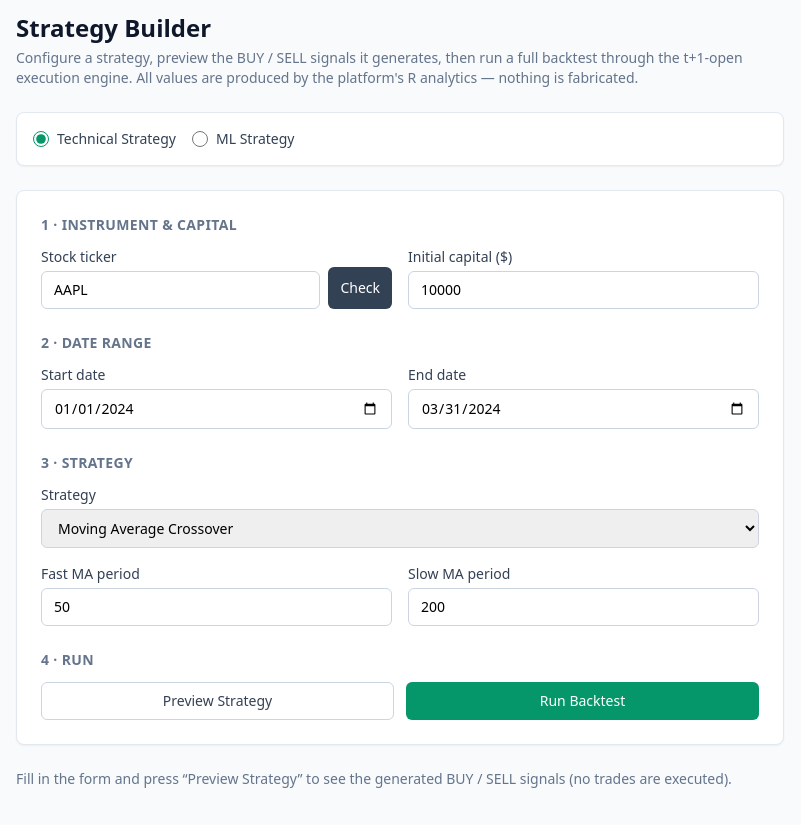
Scenario: StrategyBuilderPage (Phase 4) › rejects a non-positive initial capital
The width and height of the screenshot is (801, 825).
Replace the text in the number field labelled "Initial capital ($)" with "-500": {"x": 584, "y": 290} [408,271,759,309]
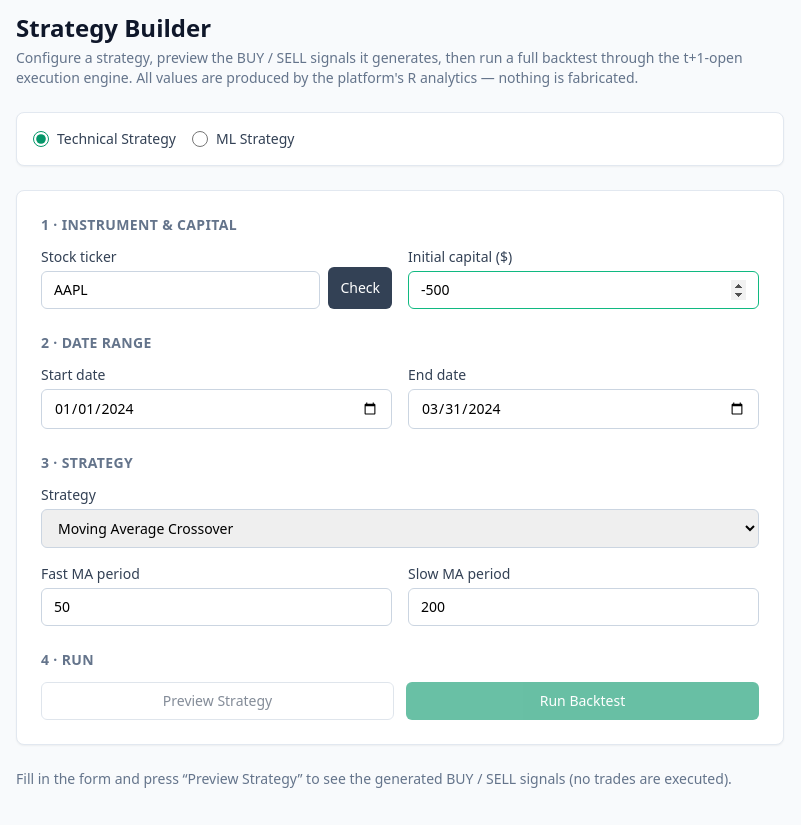
Press Tab
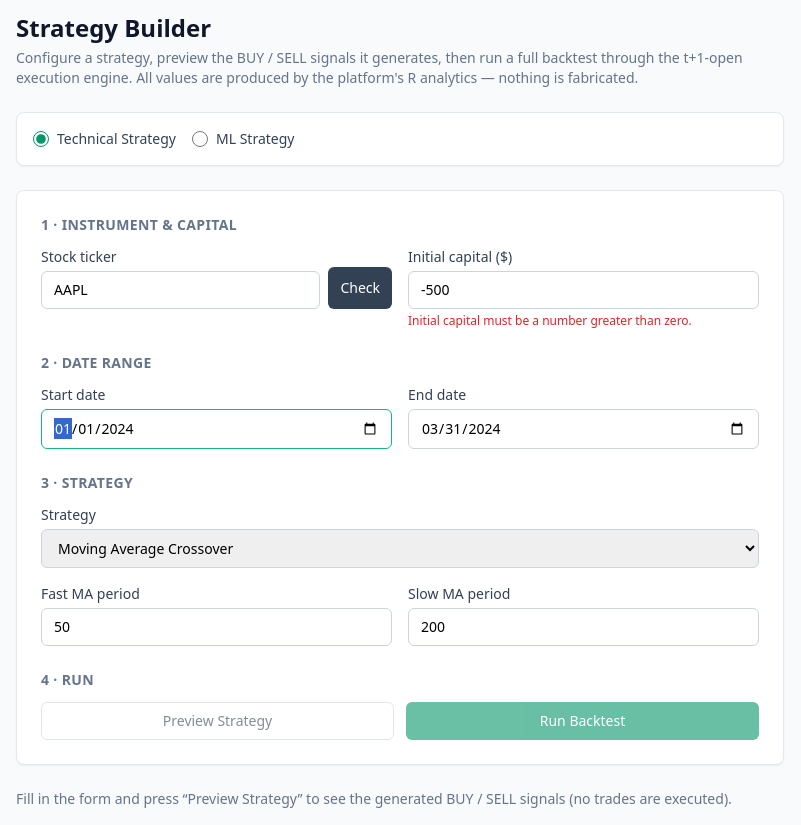
Expected: the text with test id "error-capital" shows "greater than zero", [408,312,692,329]
